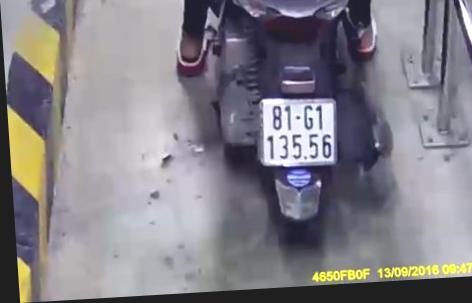License_Plate: (250, 92, 344, 177)
